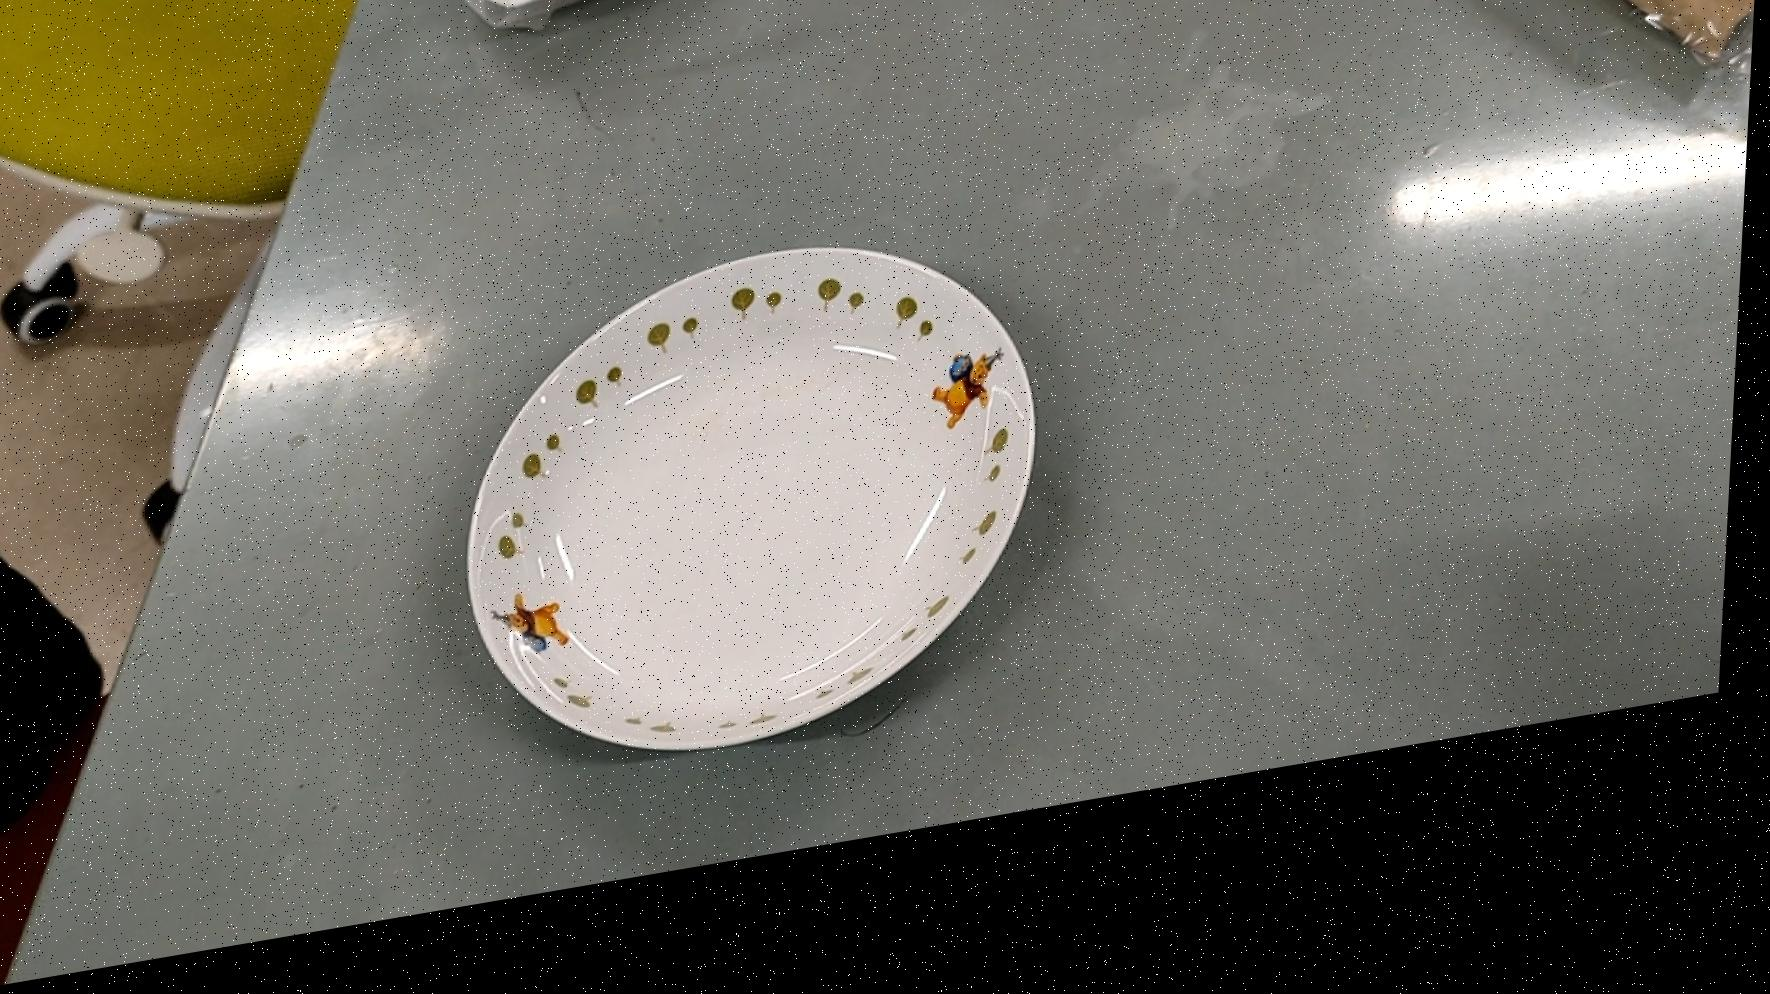plate: (469, 242, 1052, 811)
